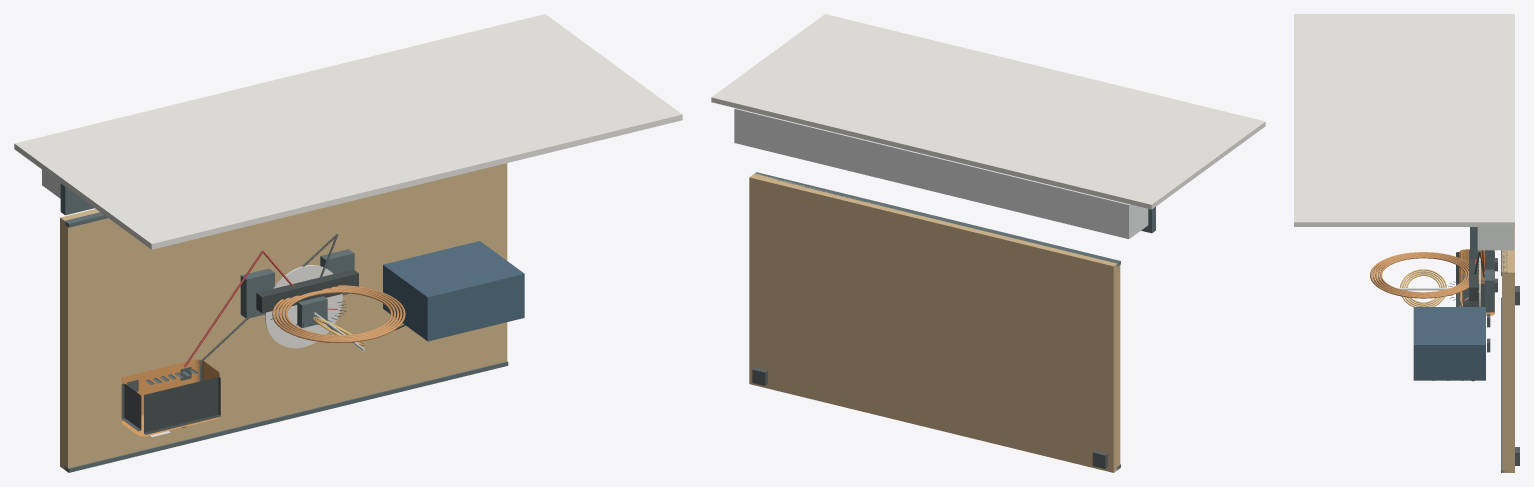
File: rp11-search-coil.glb
3 renders of one model, left to right at view 1: azimuth 30°, elevation 25°; view 2: azimuth 150°, elevation 25°; view 3: azimuth 270°, elevation 25°, orthographic. The views are drawn at different scales.
Visible parts, largest first — view 1: Laboratory background wall, Laboratory bench laminate, Oscilloscope navy case, AC low-voltage source top shell, Laboratory bench dark edge, Protractor disc, AC low-voltage source, Large circular coil lower former, Large circular coil left foot, AC low-voltage source left bumper, Search coil clamp base, Large circular coil winding 1.24 (+1 smaller); view 2: Laboratory bench laminate, Laboratory background wall, Laboratory background cabinet carcass, Laboratory bench rear edge; view 3: Laboratory background wall, Oscilloscope navy case, Laboratory bench laminate, Laboratory background cabinet carcass, Large circular coil winding 1.24, Large circular coil winding 1.0, Large circular coil right foot, AC low-voltage source, Large circular coil winding 1.06, Large circular coil winding 1.12, Large circular coil winding 1.18, Large circular coil lower former (+1 smaller).
Part boxes in pixels (x1,y1,x2,y2): Laboratory background wall: (14,14,682,249); Laboratory bench laminate: (60,163,507,470); Oscilloscope navy case: (383,241,524,341); AC low-voltage source top shell: (144,377,220,434); Laboratory bench dark edge: (64,361,508,472); Protractor disc: (265,265,342,348); AC low-voltage source: (121,359,219,436); Large circular coil lower former: (256,269,358,313); Large circular coil left foot: (240,268,274,318); AC low-voltage source left bumper: (121,383,141,431); Search coil clamp base: (297,296,327,328); Large circular coil winding 1.24: (272,285,405,342); Laboratory bench laminate: (749,173,1120,472); Laboratory background wall: (711,14,1265,209); Laboratory background cabinet carcass: (734,108,1148,238); Laboratory bench rear edge: (755,172,1120,266); Laboratory background wall: (1294,14,1514,226); Oscilloscope navy case: (1413,307,1485,380); Laboratory bench laminate: (1502,227,1514,472); Laboratory background cabinet carcass: (1477,227,1514,250); Large circular coil winding 1.24: (1370,252,1468,298); Large circular coil winding 1.0: (1380,256,1466,293); Large circular coil right foot: (1485,269,1494,312); AC low-voltage source: (1459,249,1494,315); Large circular coil winding 1.06: (1377,255,1468,294); Large circular coil winding 1.12: (1375,254,1468,295); Large circular coil winding 1.18: (1372,253,1468,296); Large circular coil lower former: (1469,249,1478,300).
Bounding box in the file's own units: 11.6 × 6.98 × 5.32.
